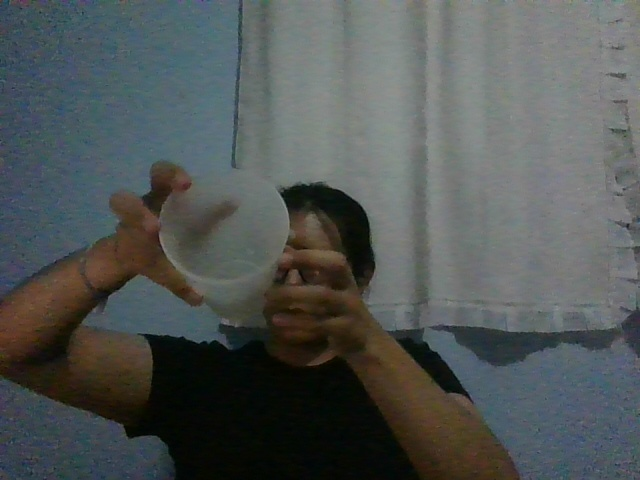vaso: (157, 167, 290, 321)
